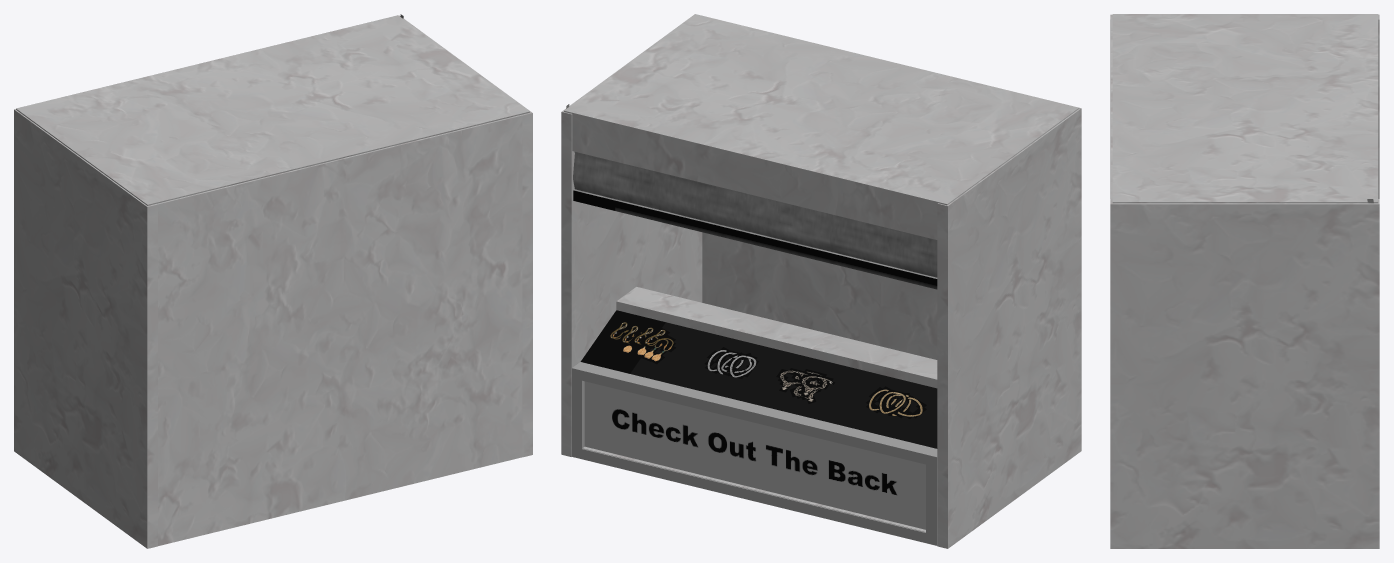
Rendered from shop11.fbx.
The picture shows the model from 3 angles, left to right: view 1: azimuth 30°, elevation 25°; view 2: azimuth 150°, elevation 25°; view 3: azimuth 270°, elevation 25°; orthographic projection.
Parts seen in each view (by area): view 1: polySurface479; view 2: polySurface479; view 3: polySurface479.
Part boxes in pixels (x1,y1,x2,y2): polySurface479: (14,14,532,548); polySurface479: (561,14,1081,548); polySurface479: (1110,14,1379,548).
Bounding box in the file's own units: 4.82 × 4.14 × 2.89.
7 materials, 6 textured.
